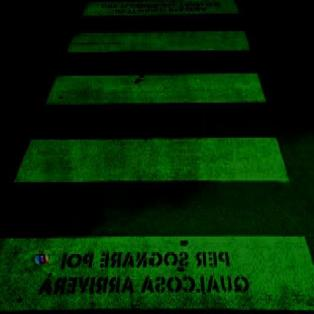Paso de Cebra: (11, 64, 293, 190)
